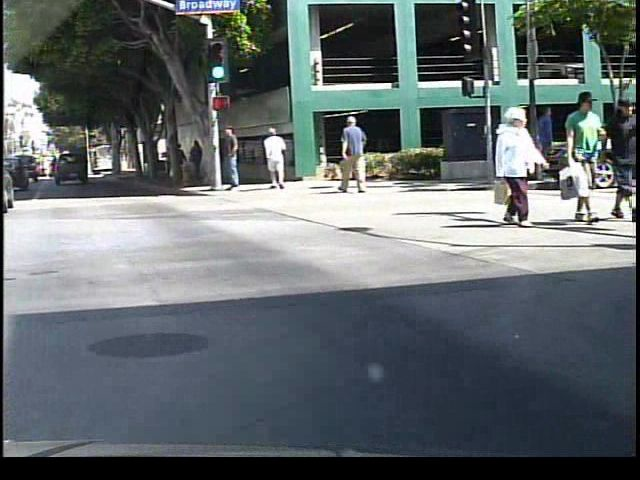person: (488, 103, 549, 230), (561, 91, 604, 227), (598, 98, 635, 223), (341, 113, 375, 195), (218, 121, 248, 202), (531, 104, 560, 180), (265, 124, 293, 194), (191, 136, 209, 179), (175, 141, 191, 187)
